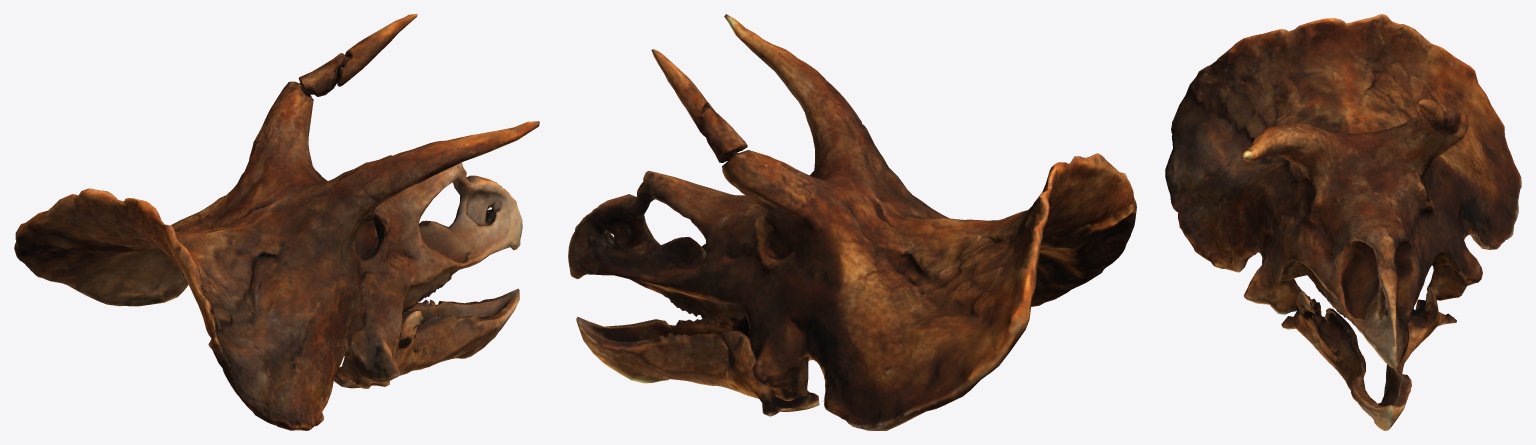
File: _trike_skull.gltf
The picture shows the model from 3 angles, left to right: view 1: azimuth 30°, elevation 25°; view 2: azimuth 150°, elevation 25°; view 3: azimuth 270°, elevation 25°; orthographic projection. The views are drawn at different scales.
Parts seen in each view (by area): view 1: trikeSkull_7500; view 2: trikeSkull_7500; view 3: trikeSkull_7500.
Part boxes in pixels (bbox=[...]): trikeSkull_7500: bbox=[14, 14, 539, 430]; trikeSkull_7500: bbox=[568, 14, 1136, 430]; trikeSkull_7500: bbox=[1165, 14, 1521, 430].
Bounding box in the file's own units: 0.5874 × 0.4001 × 0.4169.
Materials: 1 (1 with a texture image).
